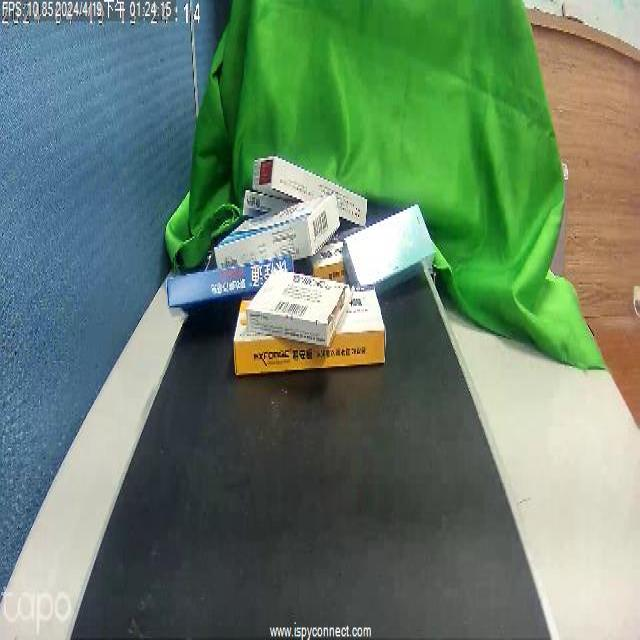box: (236, 285, 376, 386), (220, 192, 342, 264), (172, 243, 274, 318), (349, 214, 429, 301), (250, 159, 374, 214), (252, 274, 342, 340)
